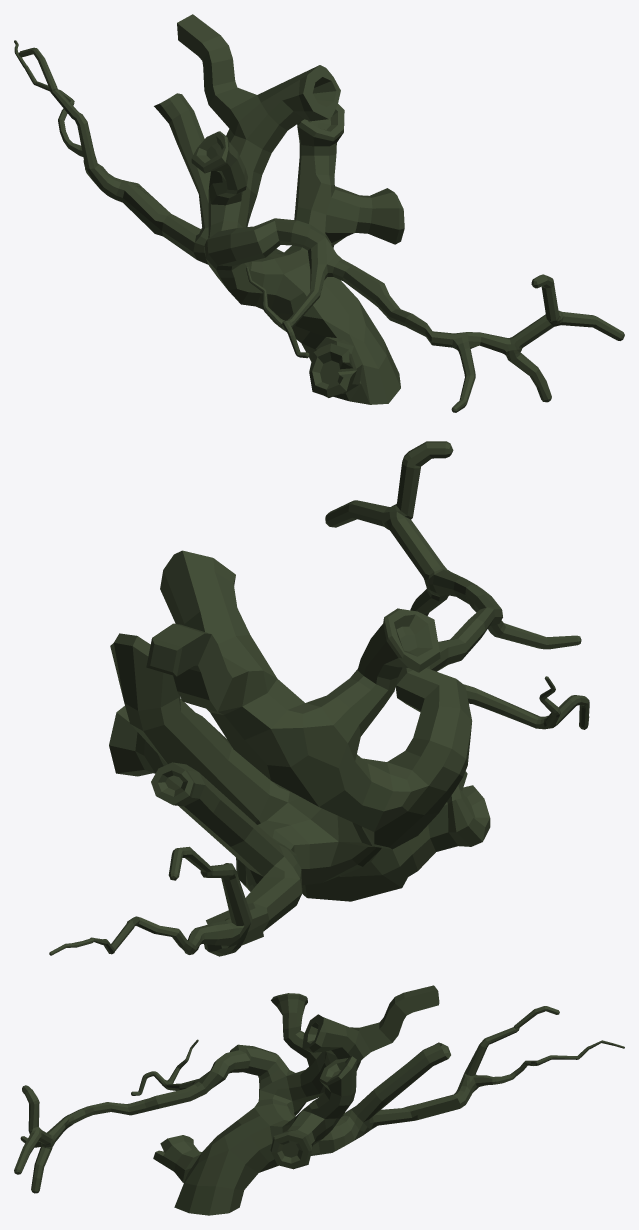
File: EA_Swamp_Root_01b.glb
3 views of the same model, one above another, from view 1: azimuth 30°, elevation 25°; view 2: azimuth 150°, elevation 25°; view 3: azimuth 270°, elevation 25° (orthographic). The views are drawn at different scales.
Visible parts, largest first — view 1: EA_Swamp_Root_01b; view 2: EA_Swamp_Root_01b; view 3: EA_Swamp_Root_01b.
Part boxes in pixels (x1,y1,x2,y2): EA_Swamp_Root_01b: [14, 14, 624, 412]; EA_Swamp_Root_01b: [49, 441, 589, 956]; EA_Swamp_Root_01b: [14, 985, 624, 1215].
Bounding box in the file's own units: 4.21 × 4.16 × 11.07.
1 material, 1 textured.
